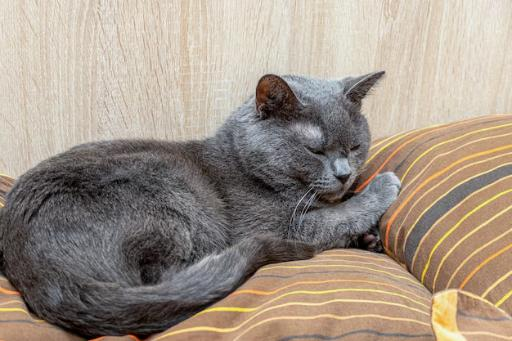cat_sleeping: (1, 72, 401, 337)
